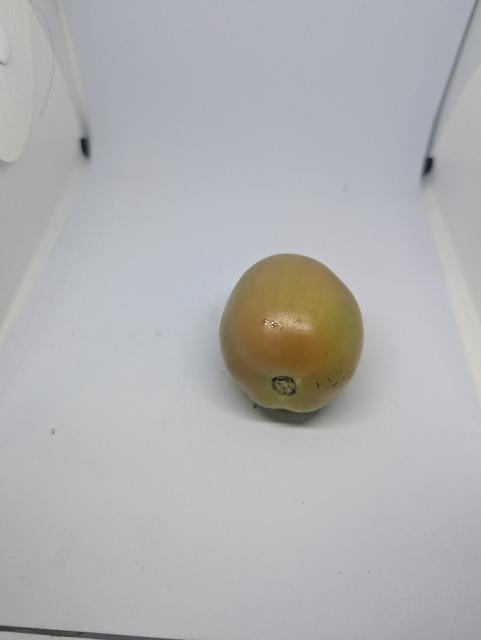breaker: (210, 247, 377, 433)
